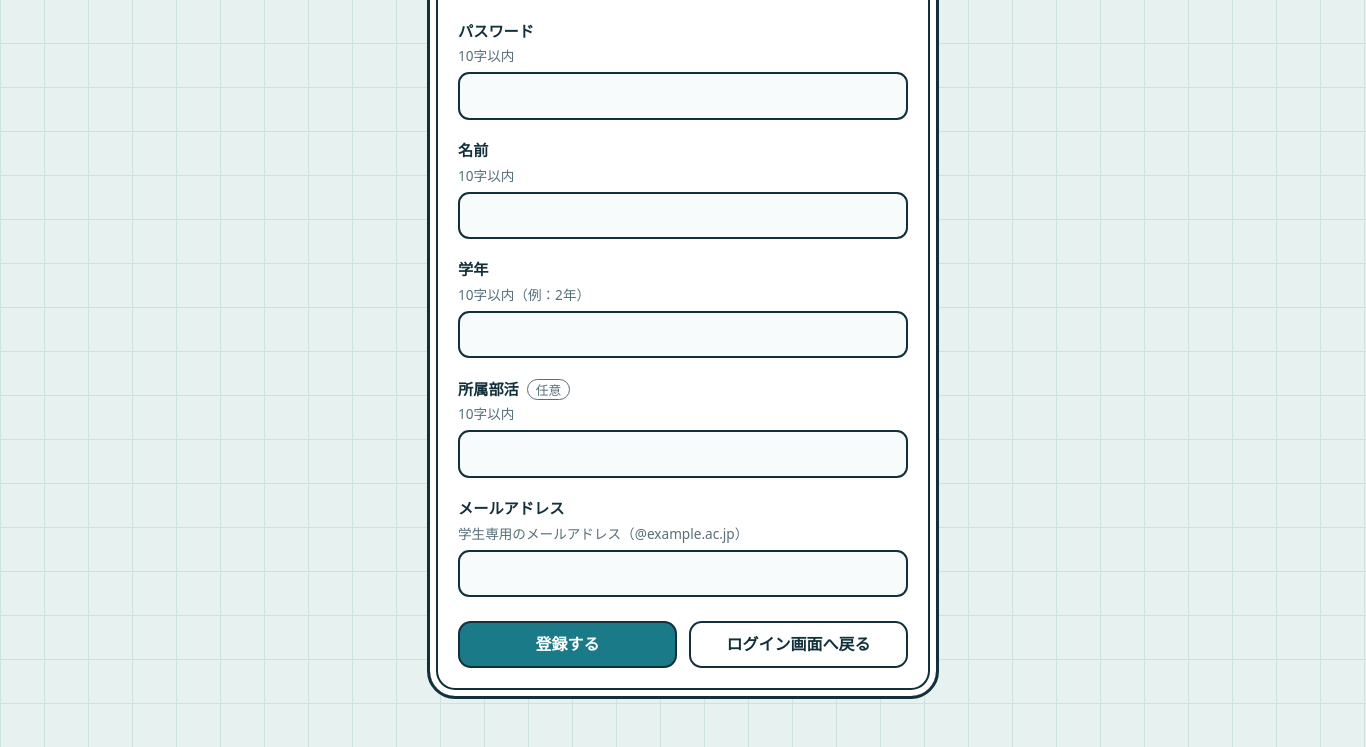
Test case: 学生登録画面 › 未入力のまま登録すると、項目ごとにエラーを表示して、ポップアップは出ない
The image size is (1366, 747).
(page scrolled)
Click the button "登録する" at (568, 644), box [458,621,677,668]
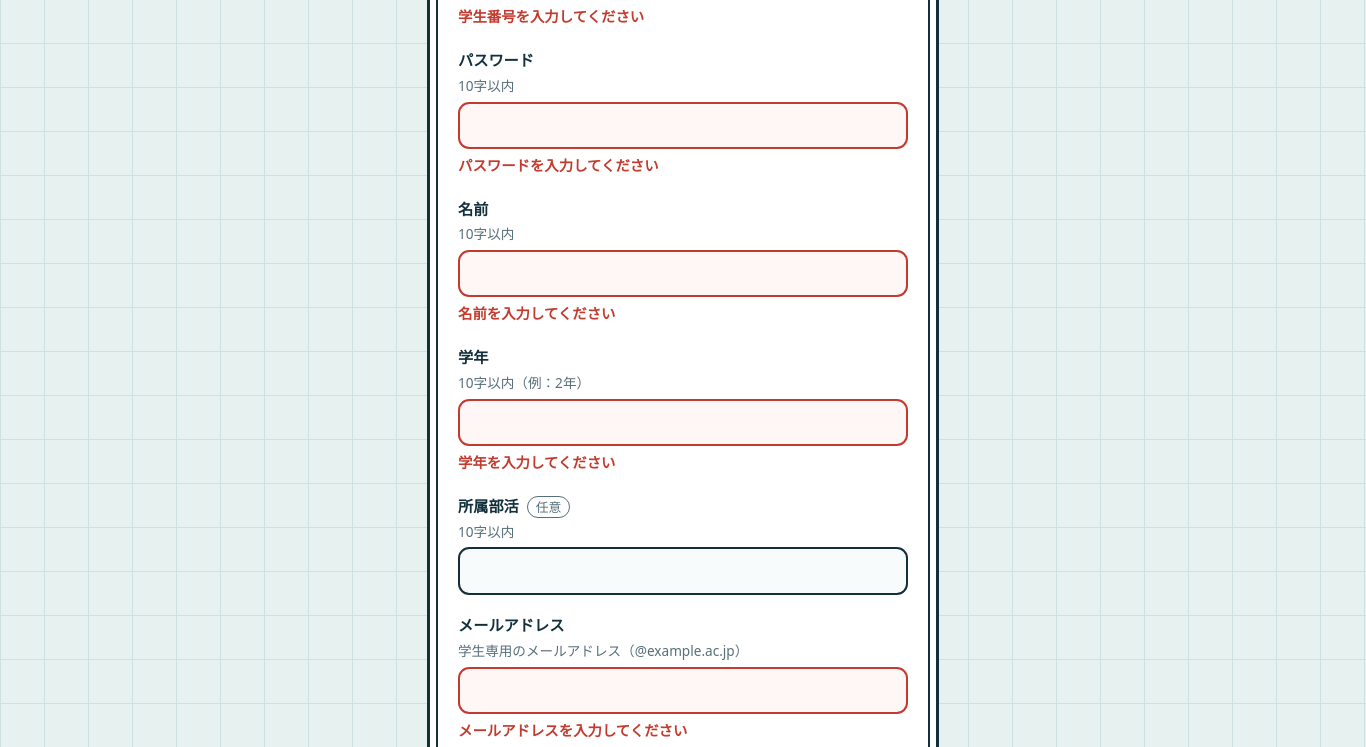
Result: the text "学生番号を入力してください" is shown at [458,7,644,26]
Result: the text "パスワードを入力してください" is shown at [458,156,659,175]
Result: the text "名前を入力してください" is shown at [458,304,615,323]
